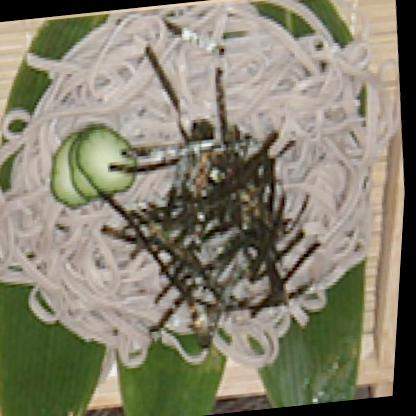memil soba: (0, 0, 407, 372)
